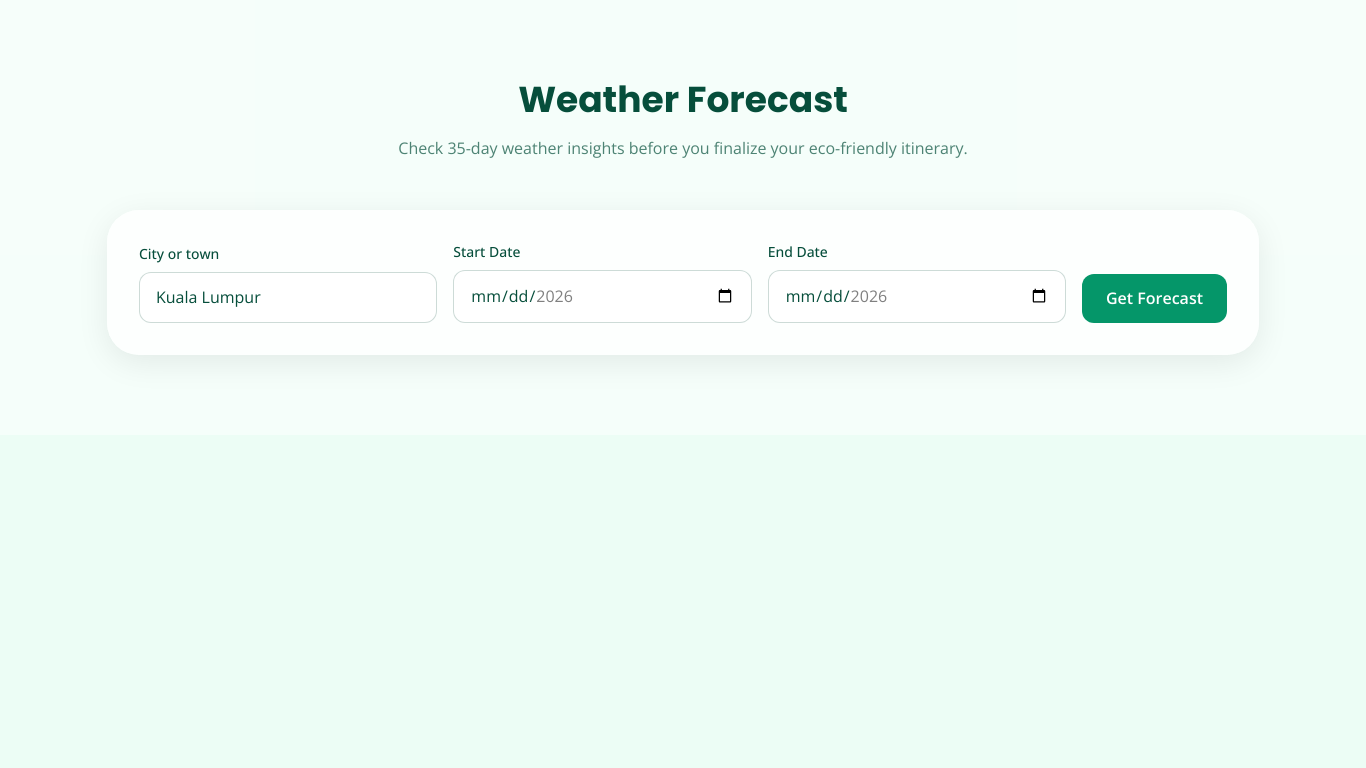
Test case: WeatherForecastSection › filters rendered forecast days by selected dates
In the date field labelled "Start Date": (602, 296) [453,270,752,323], type "2026-06-21"
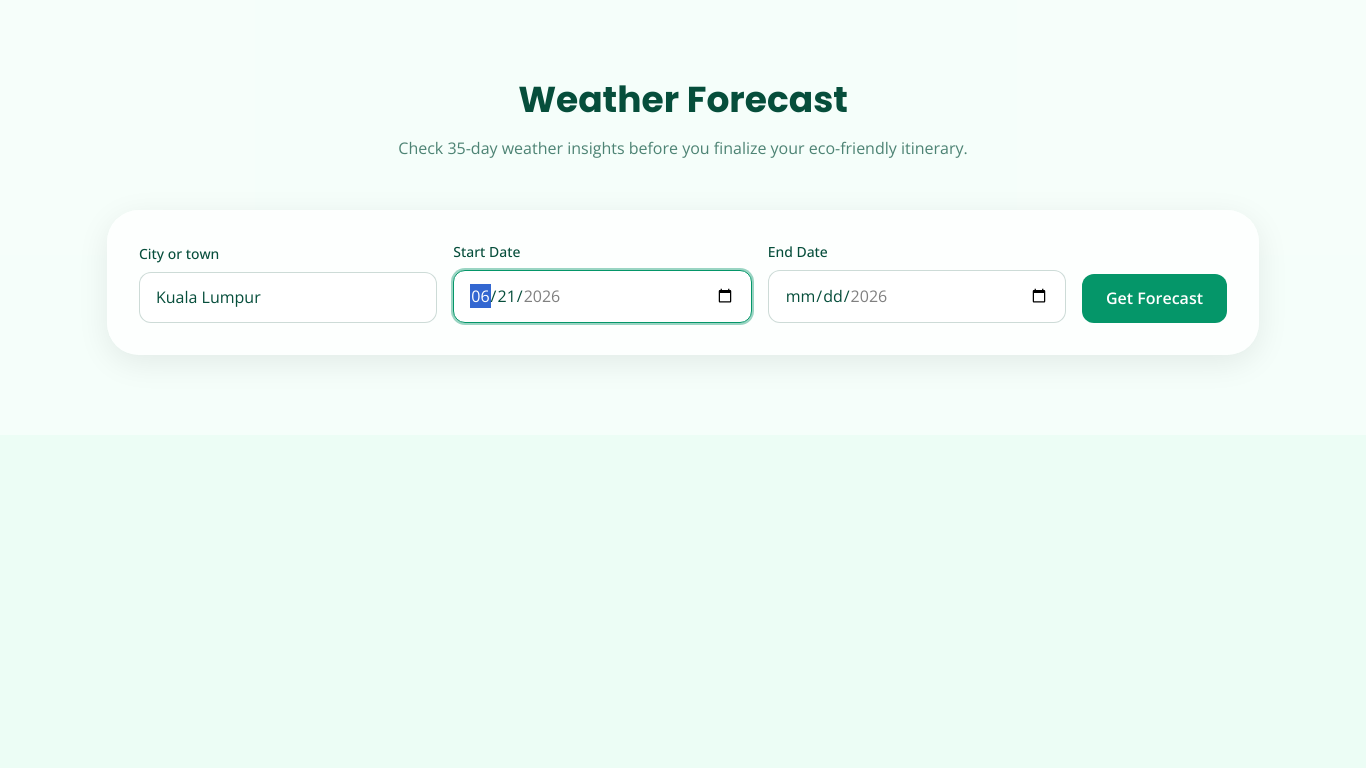
In the date field labelled "End Date": (917, 296) [768,270,1066,323], type "2026-06-21"
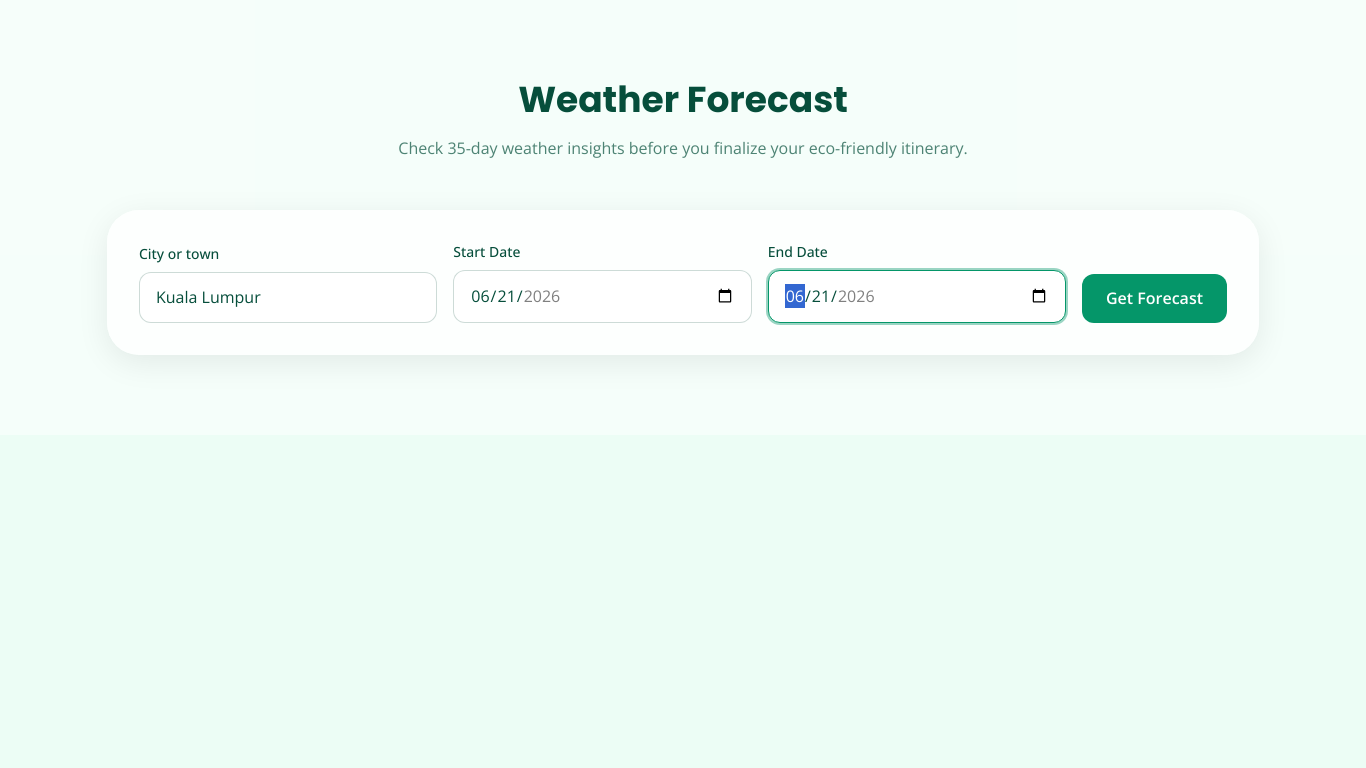
Replace the text in the field labelled "City or town" with "Kyoto": (288, 297) [139,272,437,323]
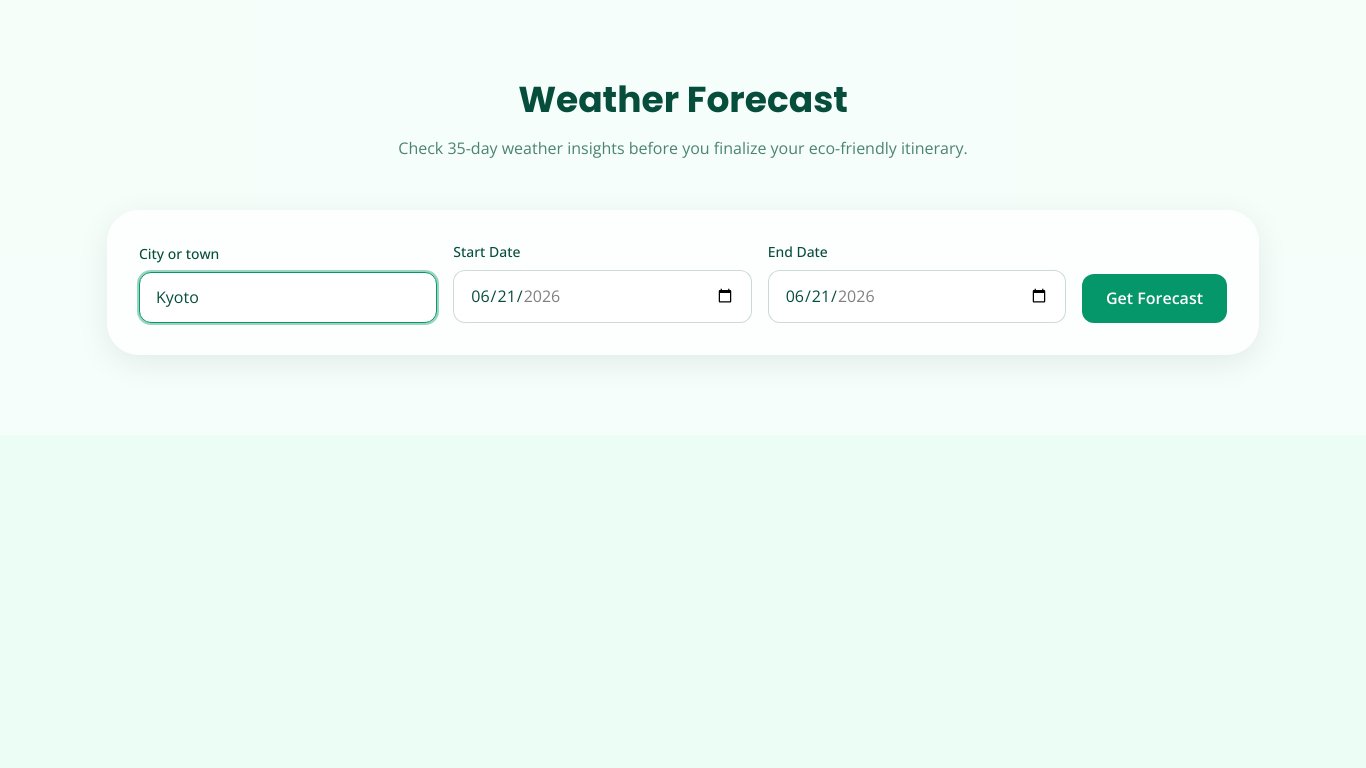
Click the button "Get Forecast": click(1154, 298) [1082,274,1227,323]
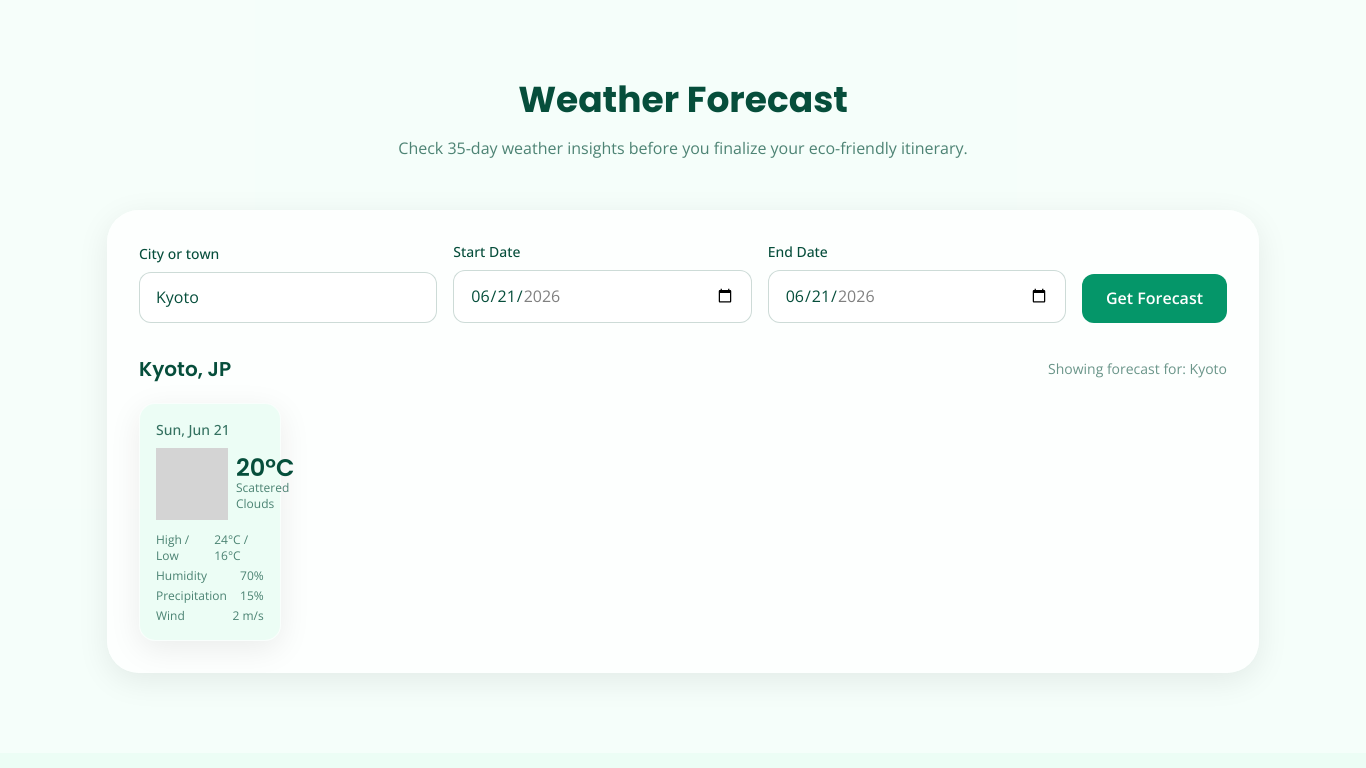
Expected: the text "20°C" is shown, [236,456,294,480]
Expected: the text "scattered clouds" is shown, [236,480,294,512]
